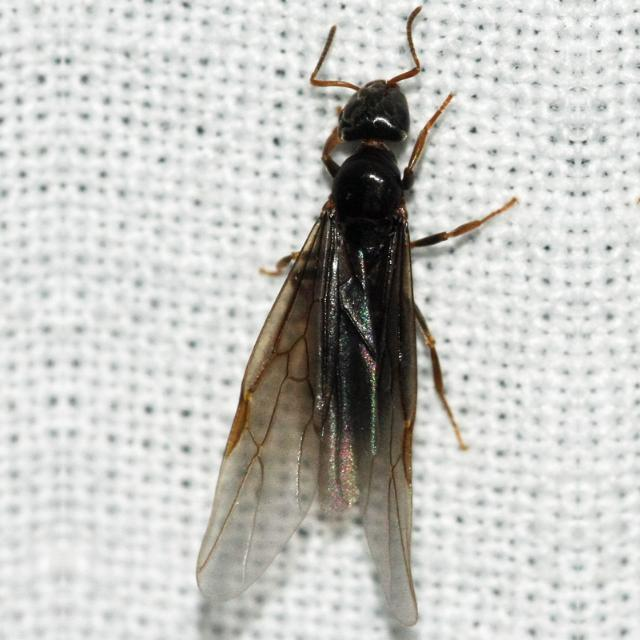Lasius: (161, 11, 529, 615)
